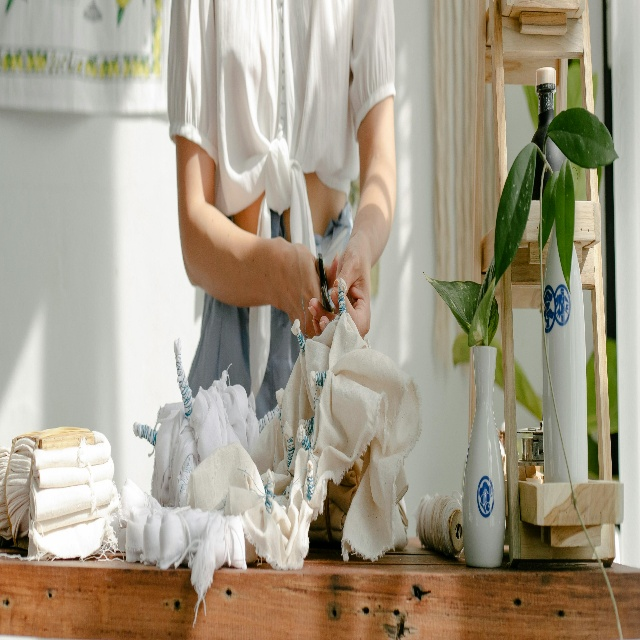Sin_guantes: (308, 234, 371, 343), (283, 241, 338, 348)
